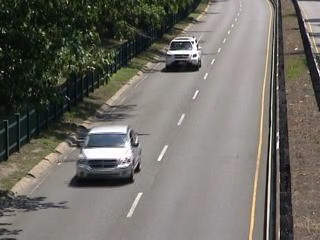car: (73, 122, 146, 186), (164, 36, 206, 73)
